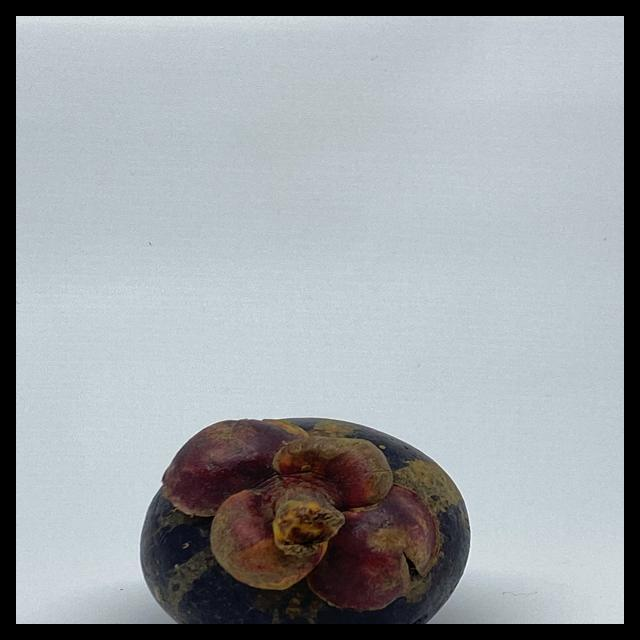mangosteen: (139, 408, 475, 624)
